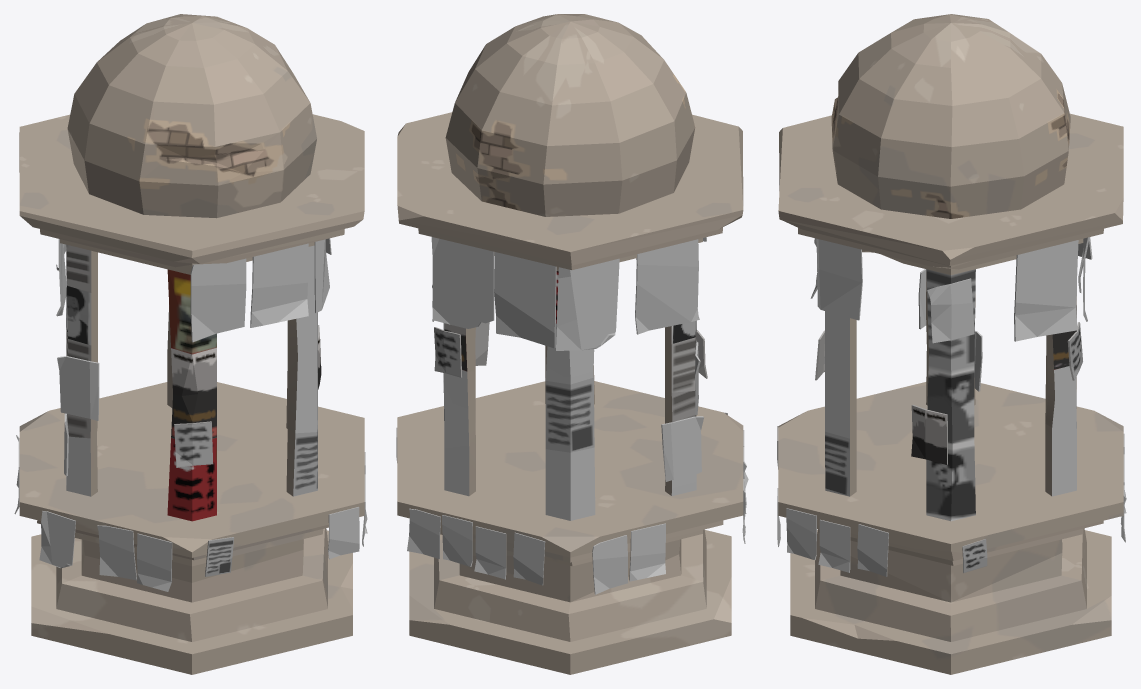
File: SM_Bld_Monument_01_Preset.fbx
The picture shows the model from 3 angles, left to right: view 1: azimuth 30°, elevation 25°; view 2: azimuth 150°, elevation 25°; view 3: azimuth 270°, elevation 25°; orthographic projection.
Visible parts, largest first — view 1: SM_Bld_Monument_01_Preset; view 2: SM_Bld_Monument_01_Preset; view 3: SM_Bld_Monument_01_Preset.
Part boxes in pixels (x1,y1,x2,y2): SM_Bld_Monument_01_Preset: (14,14,367,674); SM_Bld_Monument_01_Preset: (396,14,748,674); SM_Bld_Monument_01_Preset: (777,14,1126,674).
Bounding box in the file's own units: 324 × 514 × 284.
